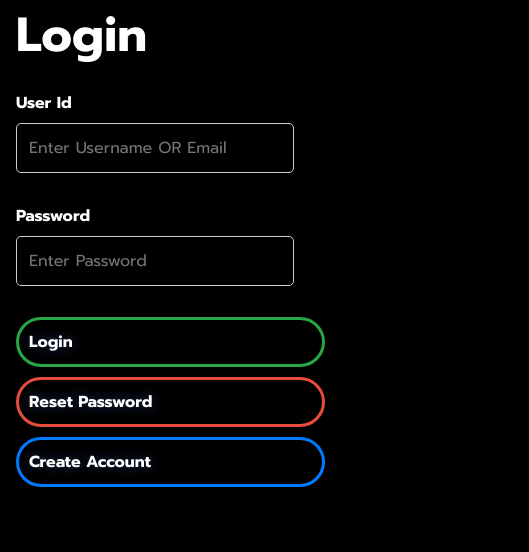
Test case: Login Component › should display validation errors for empty email and password
The width and height of the screenshot is (529, 552).
Simulate form submission without filling in the fields
Click the button "Login" at (51, 342), box 16,317 -> 325,367
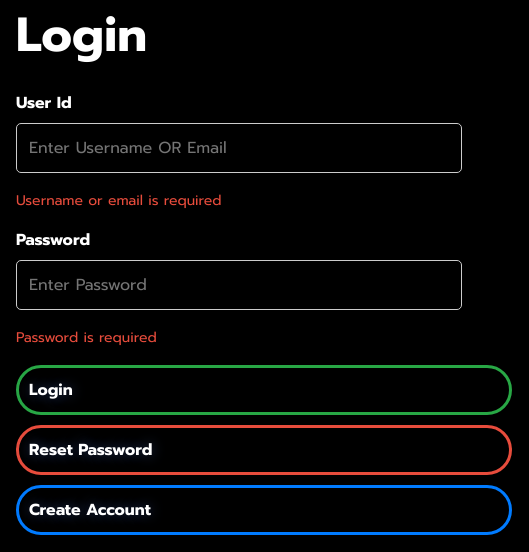
Check: the text "Username or email is required" is shown, box 16,190 -> 222,211
Check: the text "Password is required" is shown, box 16,327 -> 157,348
